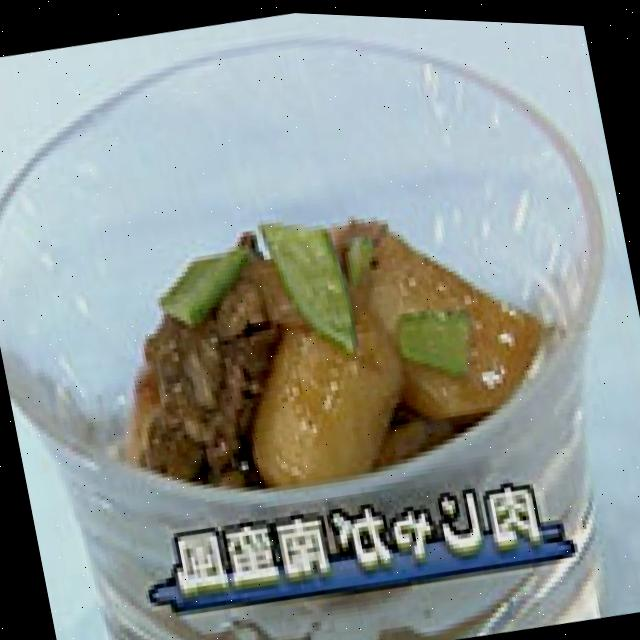牛肉菜式: (22, 135, 584, 546)
